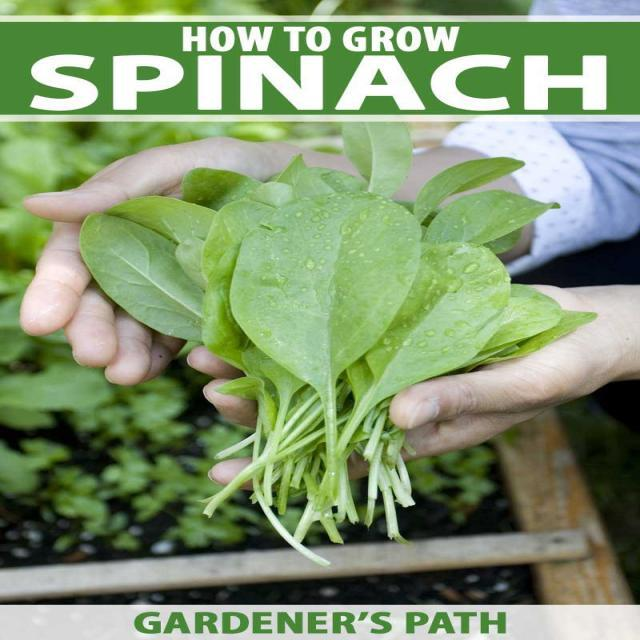Spinach: (61, 122, 611, 563)
